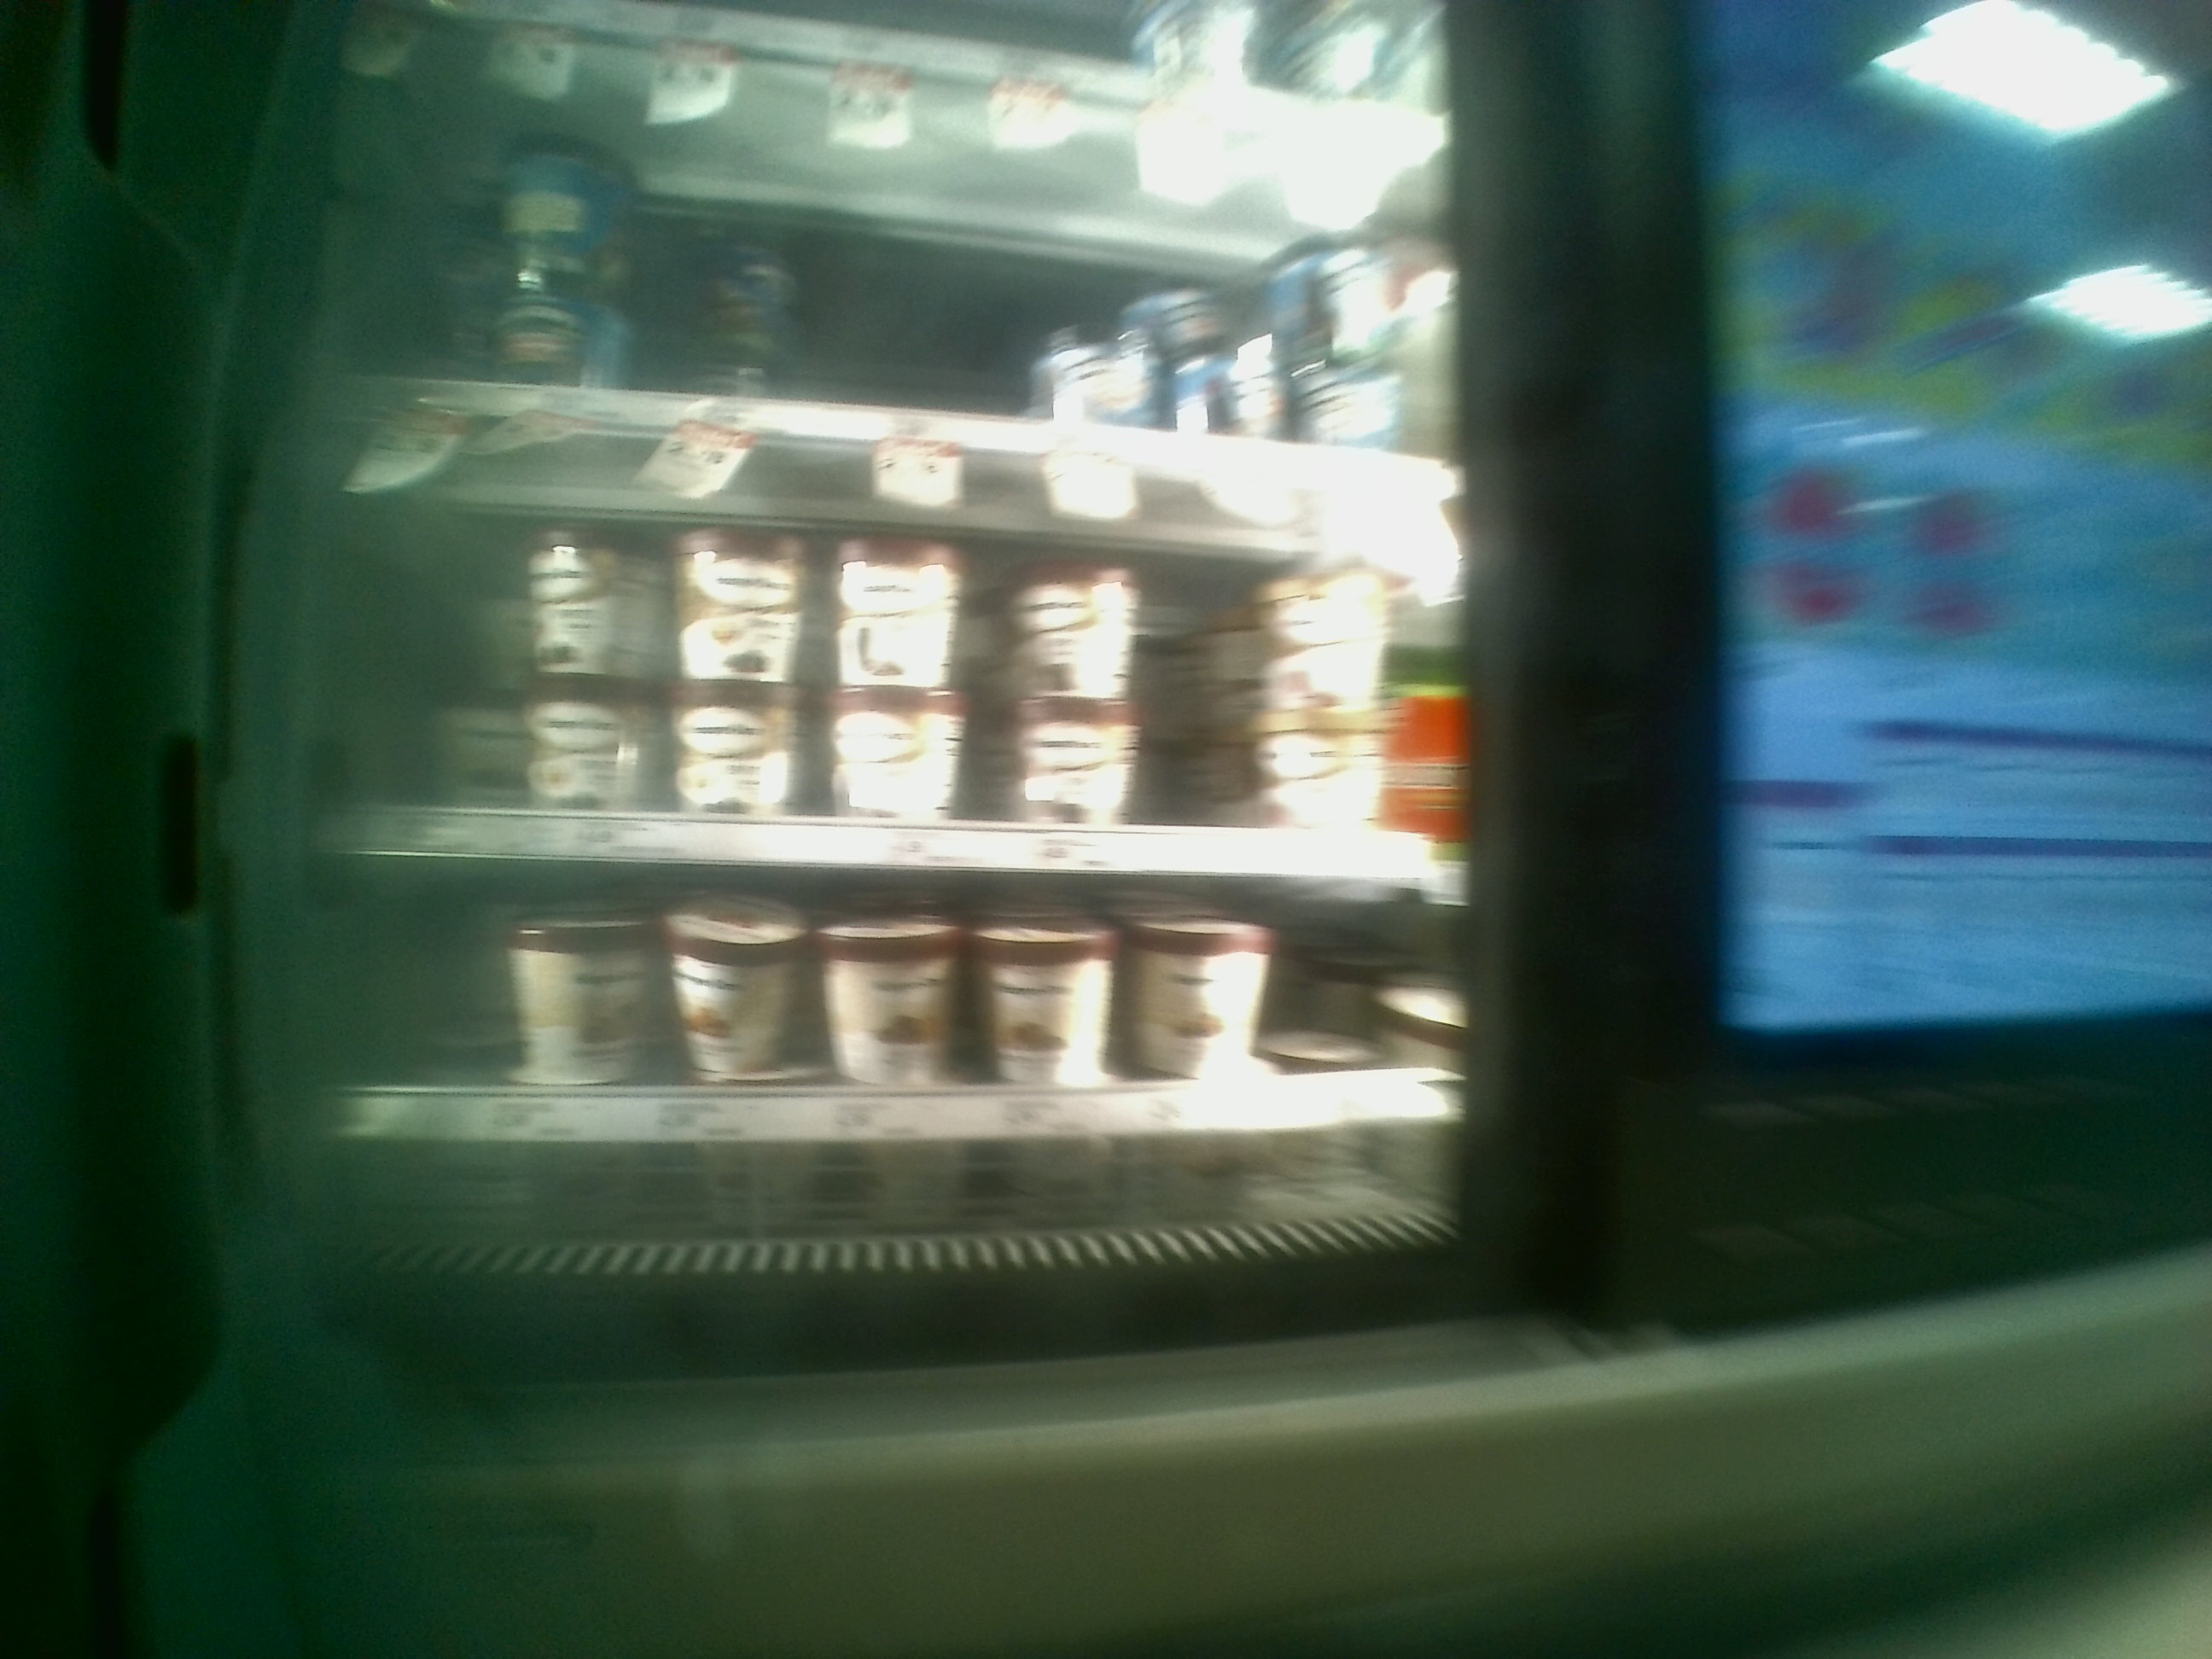shelf: (326, 413, 1465, 863), (326, 863, 1460, 1213)
